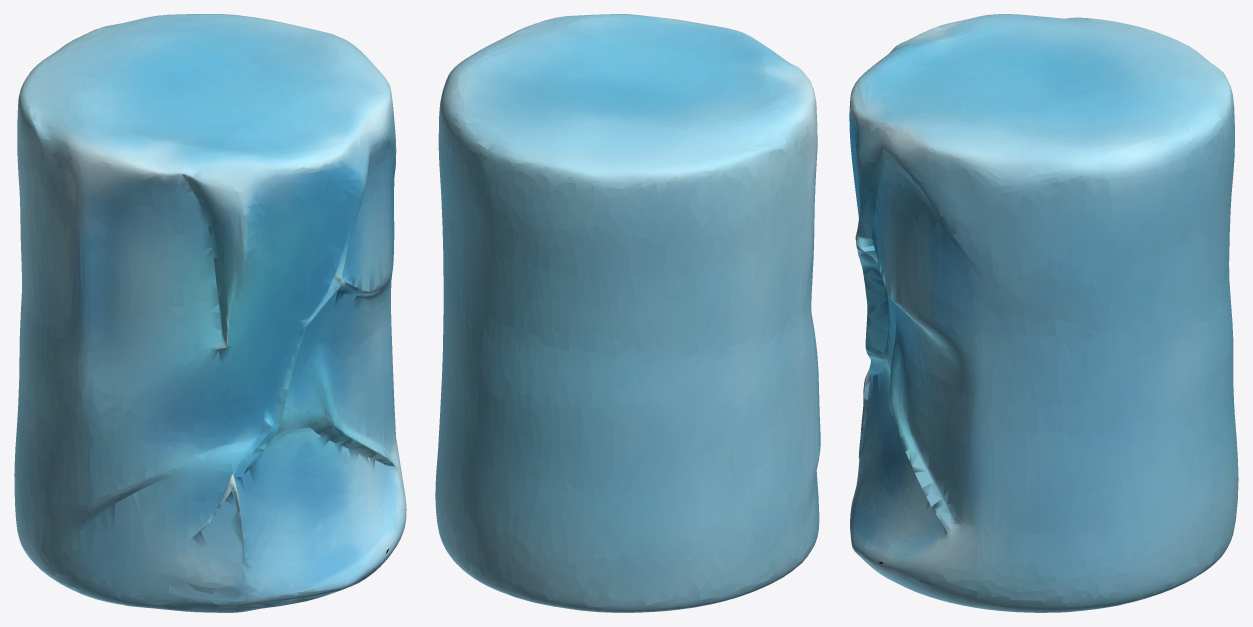
File: buz_silindir.glb
3 views of the same model, side by side, from view 1: azimuth 30°, elevation 25°; view 2: azimuth 150°, elevation 25°; view 3: azimuth 270°, elevation 25° (orthographic).
Visible parts, largest first — view 1: tripo_node_19aa47c8-c28c-4271-a1c7-fc992d710176; view 2: tripo_node_19aa47c8-c28c-4271-a1c7-fc992d710176; view 3: tripo_node_19aa47c8-c28c-4271-a1c7-fc992d710176.
Part boxes in pixels (x1=…): tripo_node_19aa47c8-c28c-4271-a1c7-fc992d710176: x1=14, y1=14, x2=406, y2=612; tripo_node_19aa47c8-c28c-4271-a1c7-fc992d710176: x1=435, y1=14, x2=820, y2=612; tripo_node_19aa47c8-c28c-4271-a1c7-fc992d710176: x1=849, y1=14, x2=1238, y2=612.
Bounding box in the file's own units: 0.7402 × 0.98 × 0.7452.
Materials: 1 (1 with a texture image).
